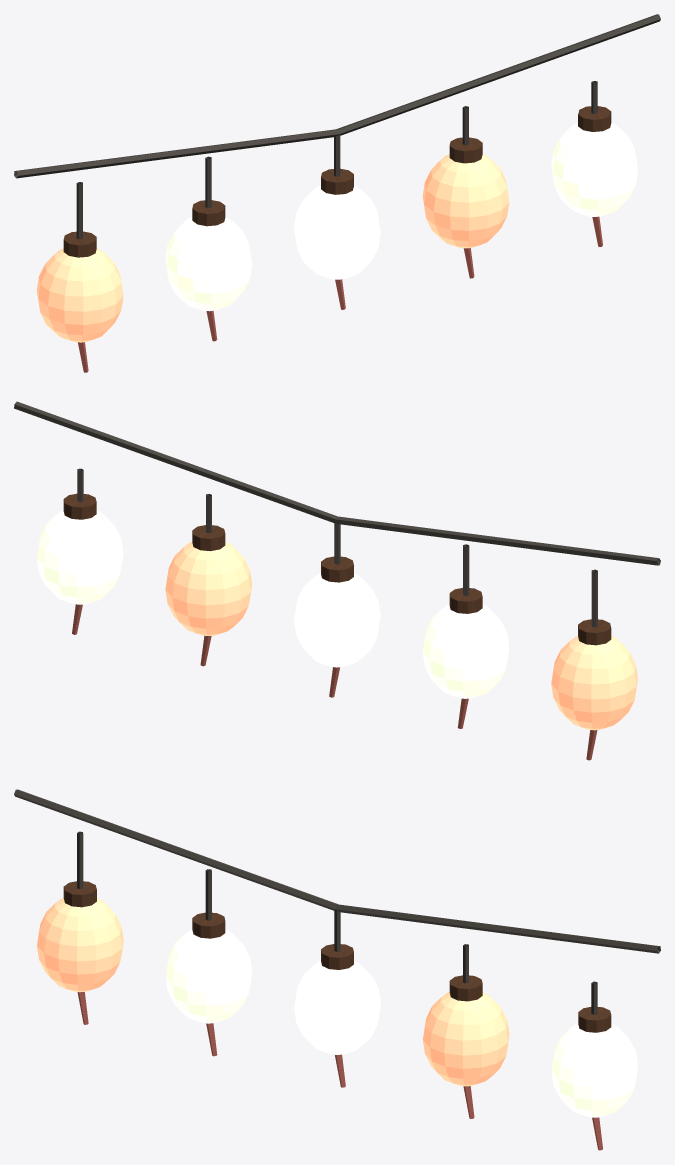
Rendered from cho-ma-den-long-treo-day.glb.
3 renders of one model, top to bottom at view 1: azimuth 30°, elevation 25°; view 2: azimuth 150°, elevation 25°; view 3: azimuth 330°, elevation 25°, orthographic.
Visible parts, largest first — view 1: cho-ma-den-long-treo-day; view 2: cho-ma-den-long-treo-day; view 3: cho-ma-den-long-treo-day.
Part boxes in pixels (left/top/right/bottom): cho-ma-den-long-treo-day: left=14, top=14, right=660, bottom=372; cho-ma-den-long-treo-day: left=14, top=401, right=660, bottom=760; cho-ma-den-long-treo-day: left=14, top=789, right=660, bottom=1150.
Size of the model in its own units: 2.2 by 0.7126 by 0.26.
Materials: 6 (1 with a texture image).
